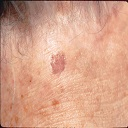Actinic: (47, 50, 68, 74)
